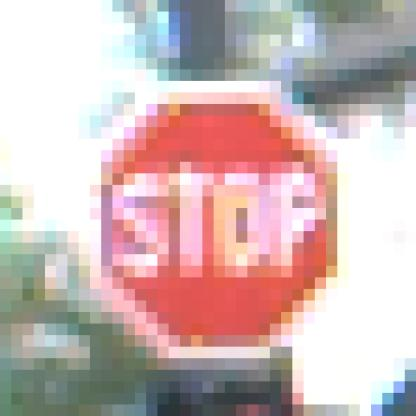Stop: (97, 92, 342, 350)
